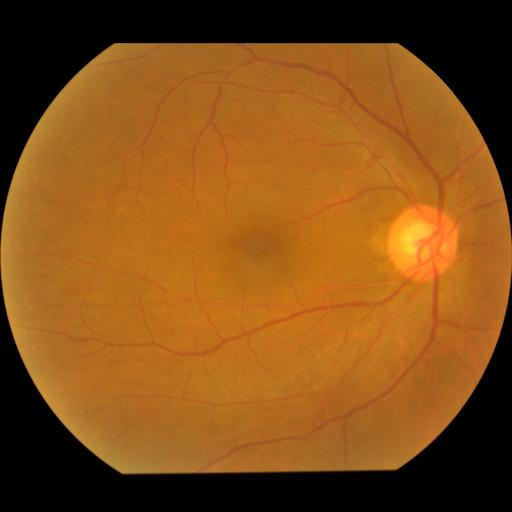Optic Cup: (400, 219, 444, 265)
Optic Disc: (388, 204, 458, 284)
